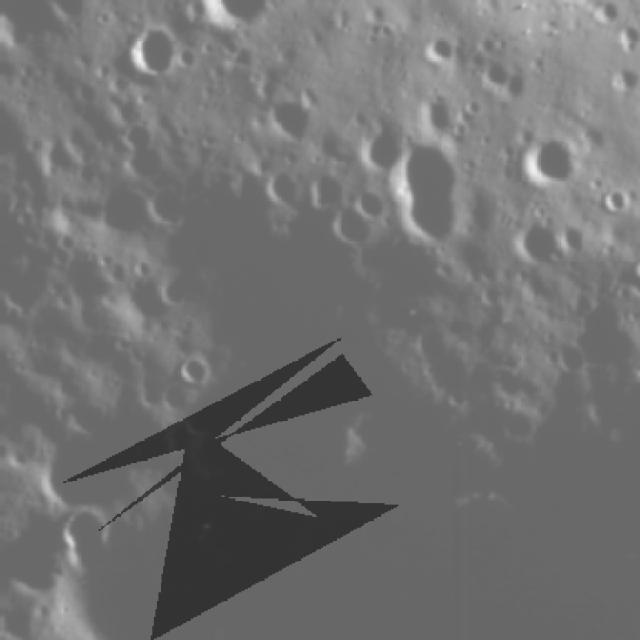crater: (386, 138, 476, 242), (112, 17, 192, 88), (250, 84, 328, 156), (49, 499, 112, 573), (510, 130, 590, 187), (90, 172, 158, 238), (347, 107, 408, 170), (508, 208, 564, 267), (195, 0, 288, 29), (115, 113, 160, 158), (414, 26, 464, 65), (170, 352, 216, 390), (601, 58, 640, 99), (578, 0, 618, 32), (612, 23, 640, 55), (620, 256, 640, 282), (534, 0, 594, 2)
